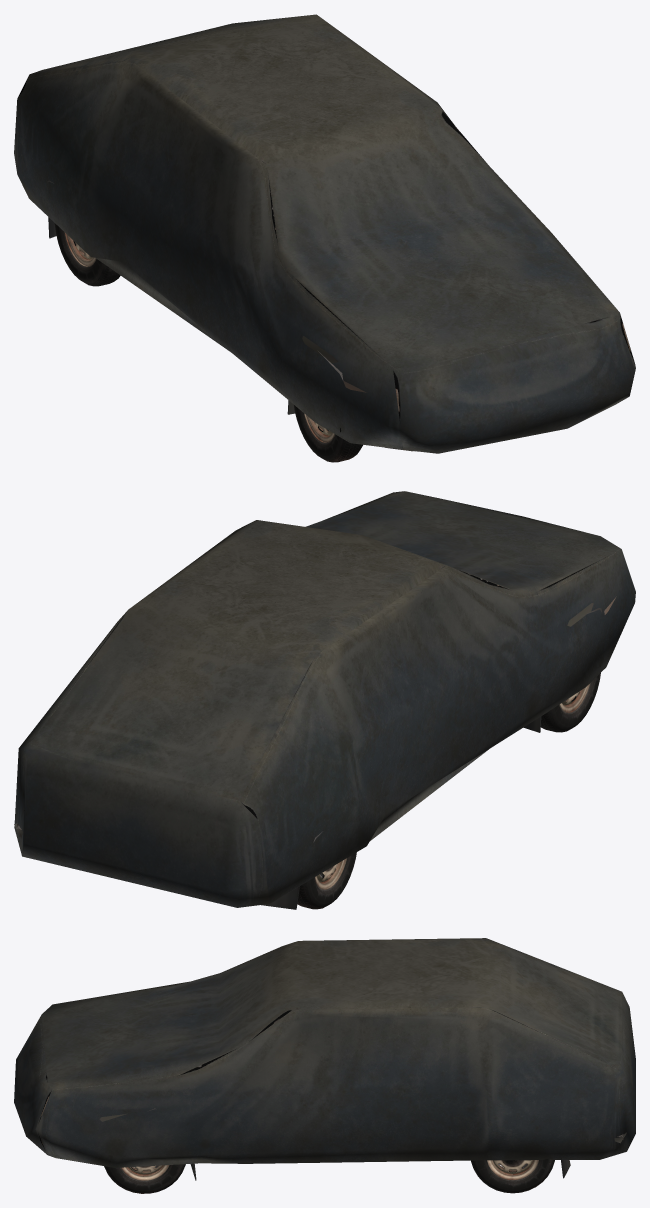
The model's file is covered_car.lite.gltf.
3 views of the same model, one above another, from view 1: azimuth 30°, elevation 25°; view 2: azimuth 150°, elevation 25°; view 3: azimuth 270°, elevation 25° (orthographic). The views are drawn at different scales.
Visible parts, largest first — view 1: covered_car, covered_car_wheel_02, covered_car_wheel_03; view 2: covered_car, covered_car_wheel_03, covered_car_wheel_02; view 3: covered_car, covered_car_wheel_04, covered_car_wheel_01.
Part boxes in pixels (bbox=[...]): covered_car: bbox=[14, 14, 635, 453]; covered_car_wheel_02: bbox=[294, 405, 362, 462]; covered_car_wheel_03: bbox=[54, 223, 120, 286]; covered_car: bbox=[14, 491, 635, 909]; covered_car_wheel_03: bbox=[297, 852, 356, 909]; covered_car_wheel_02: bbox=[540, 663, 600, 732]; covered_car: bbox=[14, 938, 635, 1180]; covered_car_wheel_04: bbox=[471, 1158, 554, 1193]; covered_car_wheel_01: bbox=[104, 1164, 185, 1193].
Size of the model in its own units: 1.77 by 1.38 by 4.36.
Materials: 2 (2 with a texture image).
